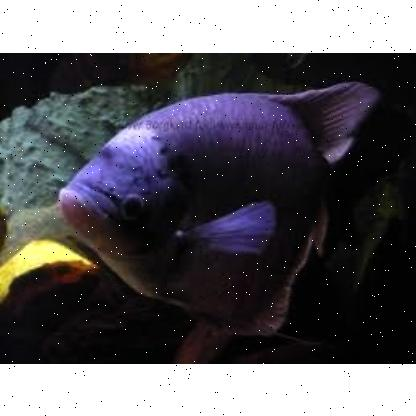gurame: (56, 89, 370, 333)
